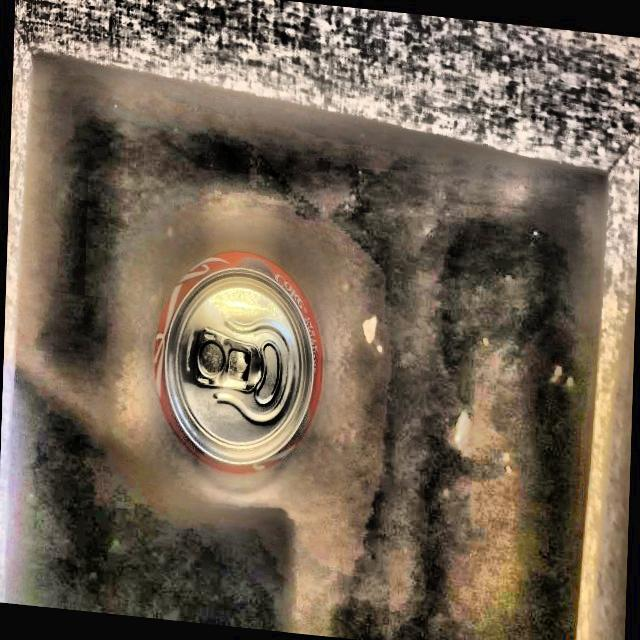coke-can: (150, 240, 318, 487)
